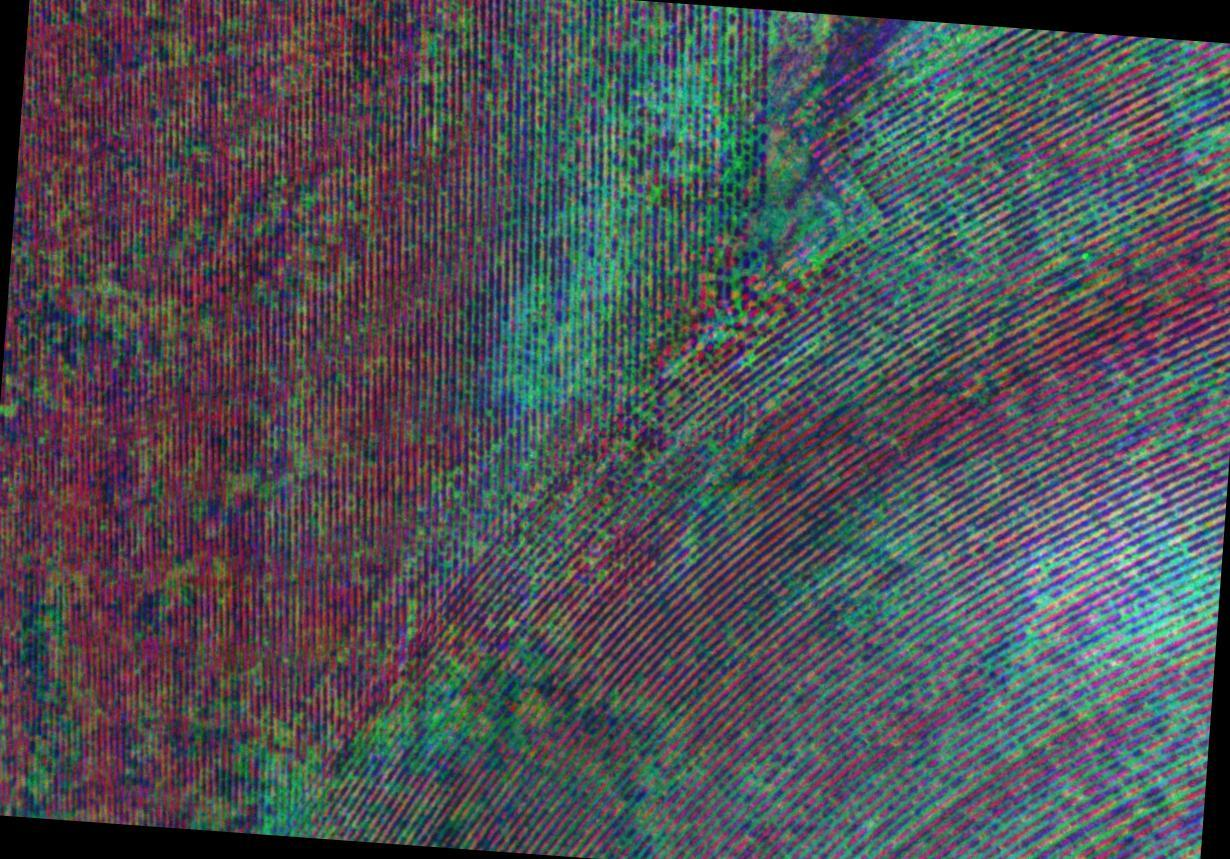dc: (611, 70, 712, 171), (508, 305, 602, 398), (771, 180, 869, 247), (243, 753, 328, 822), (1156, 548, 1217, 628)
